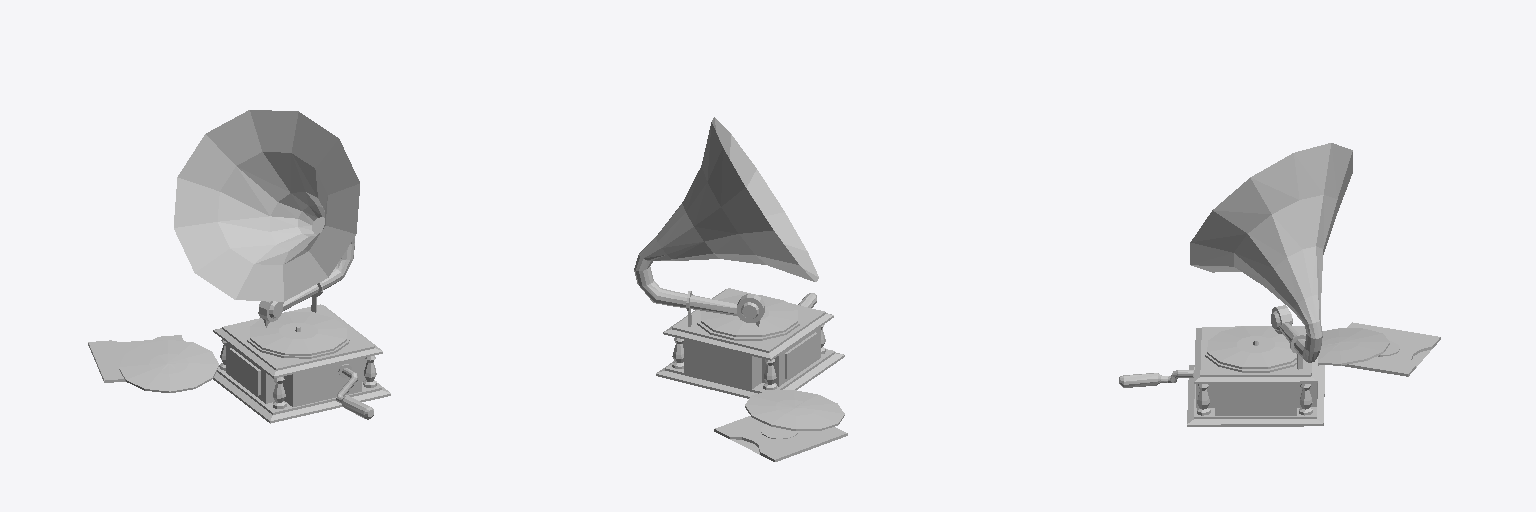
File: player.obj
3 views of the same model, side by side, from view 1: azimuth 30°, elevation 25°; view 2: azimuth 150°, elevation 25°; view 3: azimuth 270°, elevation 25° (orthographic).
Visible parts, largest first — view 1: group[number redacted]; view 2: group[number redacted]; view 3: group[number redacted].
Part boxes in pixels (x1,y1,x2,y2): group[number redacted]: (88, 110, 390, 423); group[number redacted]: (634, 117, 847, 461); group[number redacted]: (1119, 143, 1440, 426).
Bounding box in the file's own units: 0.9027 × 0.9511 × 1.09.